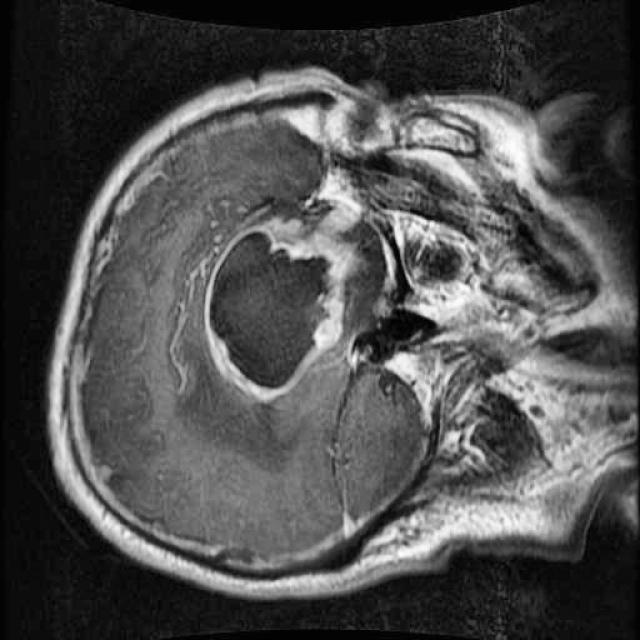Tumor: (182, 202, 372, 418)
